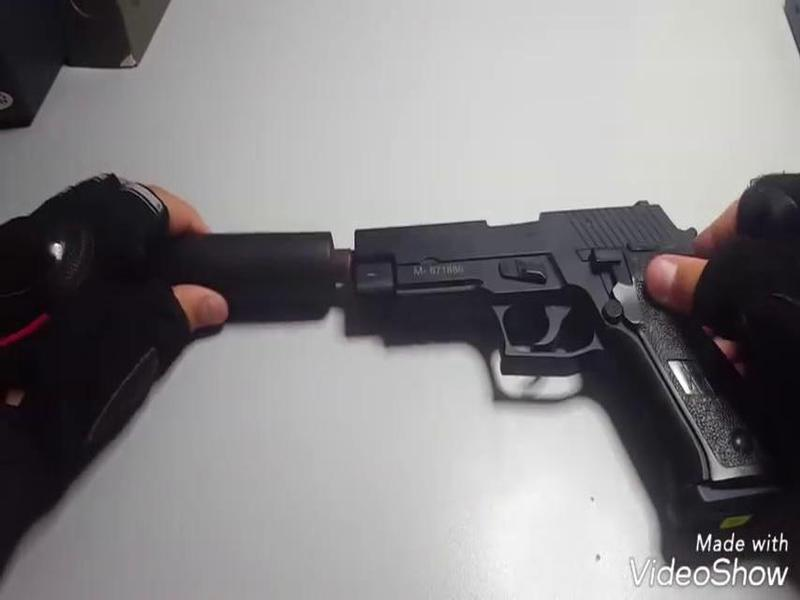Pistola: (341, 189, 800, 524)
